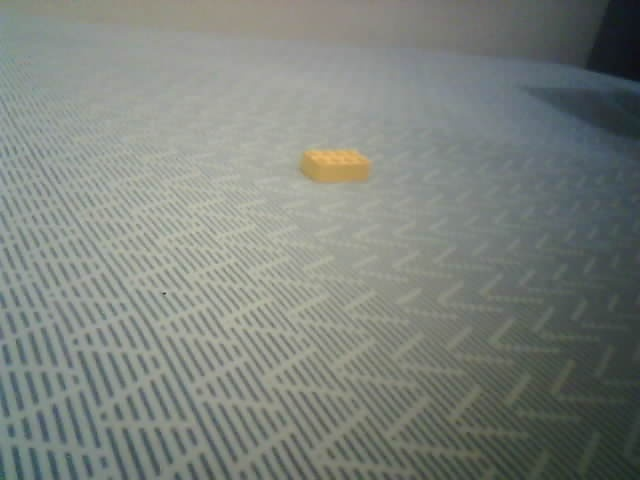lego: (300, 149, 371, 184)
